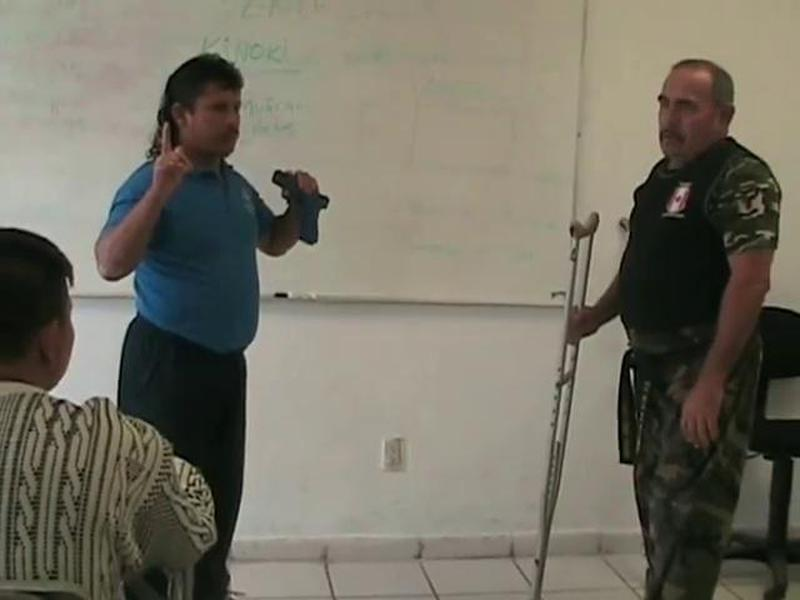Pistola: (256, 149, 337, 260)
